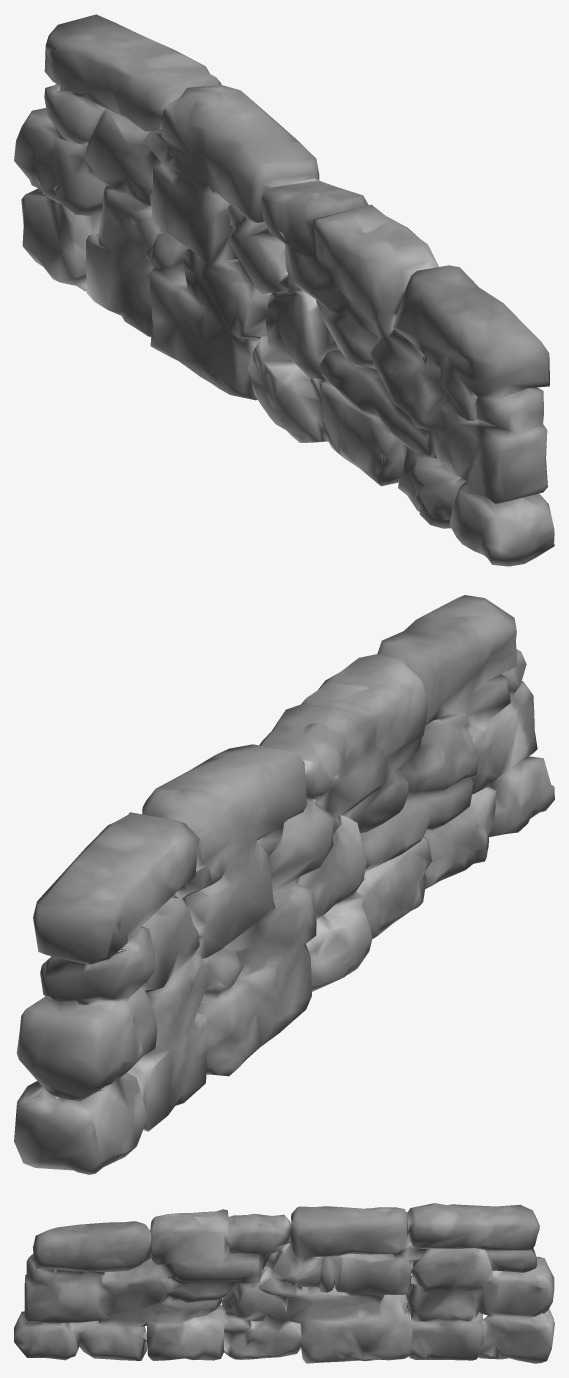
The model's file is SM_WallBricks_01a.fbx.
3 views of the same model, one above another, from view 1: azimuth 30°, elevation 25°; view 2: azimuth 150°, elevation 25°; view 3: azimuth 270°, elevation 25° (orthographic). The views are drawn at different scales.
Parts seen in each view (by area): view 1: SM_WallBricks_01a_LOD0; view 2: SM_WallBricks_01a_LOD0; view 3: SM_WallBricks_01a_LOD0.
Part boxes in pixels (x1,y1,x2,y2): SM_WallBricks_01a_LOD0: [14, 14, 554, 566]; SM_WallBricks_01a_LOD0: [14, 595, 554, 1174]; SM_WallBricks_01a_LOD0: [14, 1203, 554, 1363].
Size of the model in its own units: 71.33 by 534 by 166.
